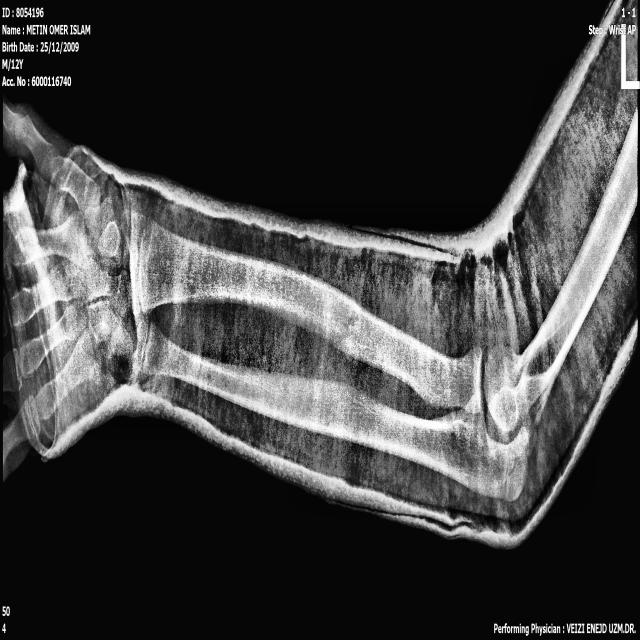Fracture: (328, 294, 367, 372)
